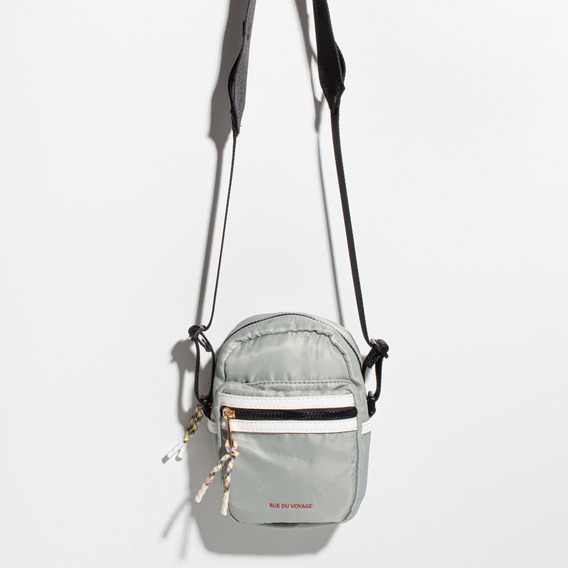cartera: (188, 1, 389, 531)
